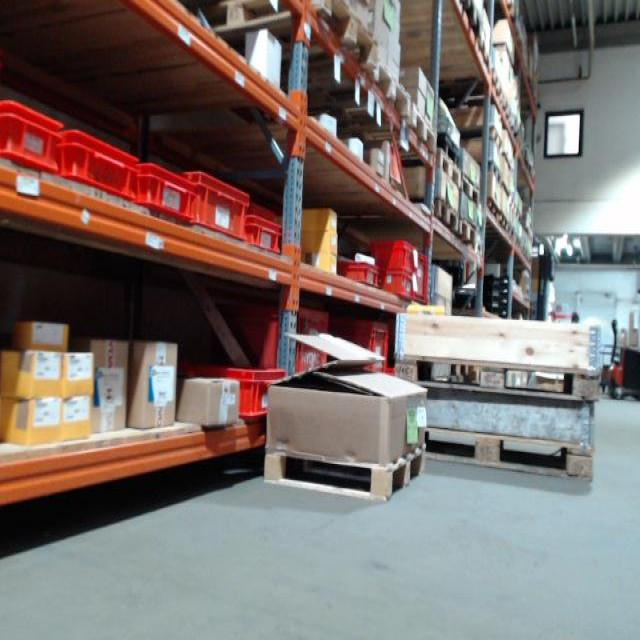pallet: (193, 2, 380, 84), (396, 346, 604, 402), (423, 425, 599, 475), (260, 447, 420, 495), (341, 178, 462, 236), (314, 62, 415, 124), (374, 105, 438, 155), (400, 145, 462, 188), (421, 0, 476, 34), (452, 27, 489, 76), (448, 166, 478, 201), (454, 221, 480, 246), (479, 201, 500, 220)
pallet_truck: (533, 243, 580, 321), (599, 312, 639, 397)
small_load_carrier: (237, 309, 331, 379), (2, 95, 69, 180), (173, 170, 251, 243), (62, 129, 137, 204), (191, 368, 277, 423), (132, 161, 196, 222), (338, 311, 389, 385), (369, 235, 418, 275), (335, 258, 378, 295), (412, 248, 434, 317), (245, 215, 281, 251), (376, 275, 414, 303)
